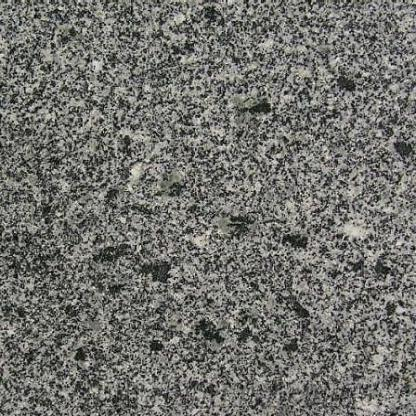Igneous_Diorite: (49, 31, 396, 394)
